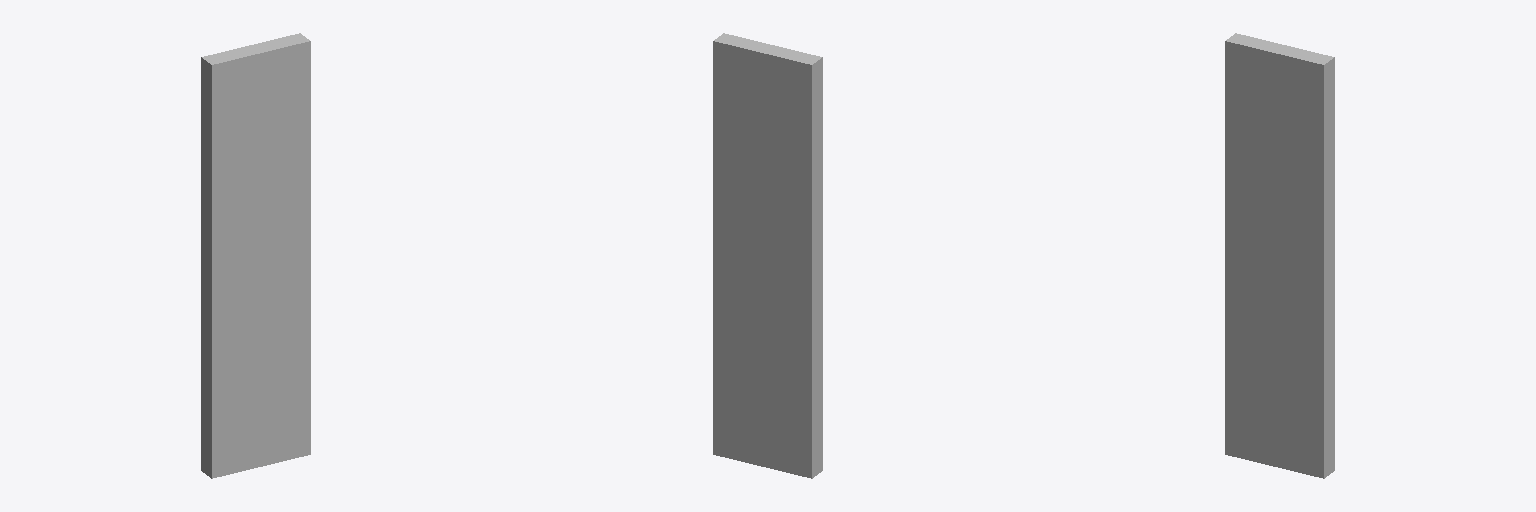
Rendered from hcmwdoortower.obj.
The picture shows the model from 3 angles: view 1: azimuth 30°, elevation 25°; view 2: azimuth 150°, elevation 25°; view 3: azimuth 330°, elevation 25°; orthographic projection.
Visible parts, largest first — view 1: hm_tower; view 2: hm_tower; view 3: hm_tower.
Part boxes in pixels (left/top/right/bottom): hm_tower: left=201, top=33, right=310, bottom=478; hm_tower: left=713, top=33, right=822, bottom=478; hm_tower: left=1225, top=33, right=1334, bottom=478.
Bounding box in the file's own units: 1 × 4 × 0.188.